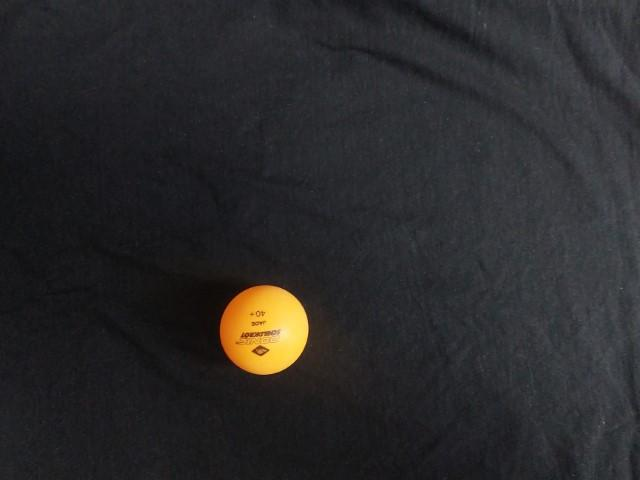oball: (214, 282, 316, 382)
